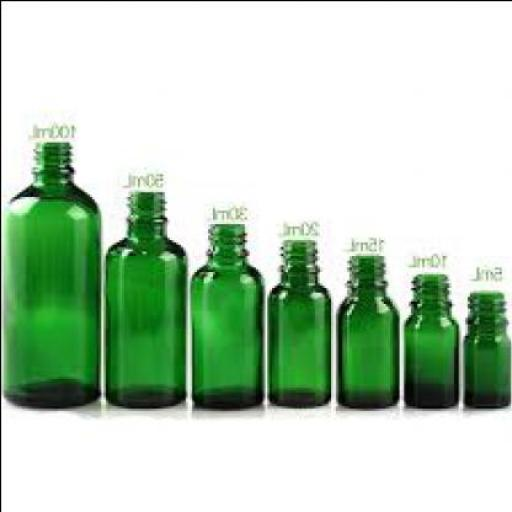glass: (4, 139, 103, 405), (104, 188, 190, 410), (192, 220, 266, 410), (268, 239, 330, 407), (339, 252, 398, 410), (406, 271, 460, 410), (464, 289, 511, 409)
